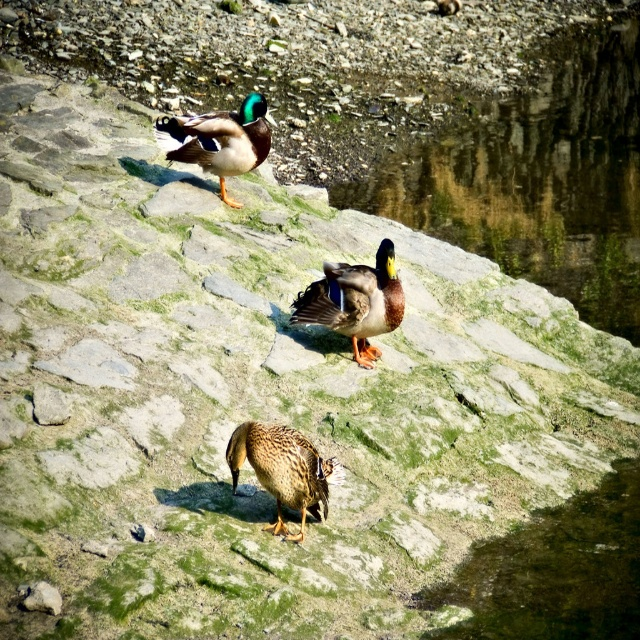Duck: (148, 84, 275, 200), (294, 238, 410, 364), (220, 423, 336, 540)
